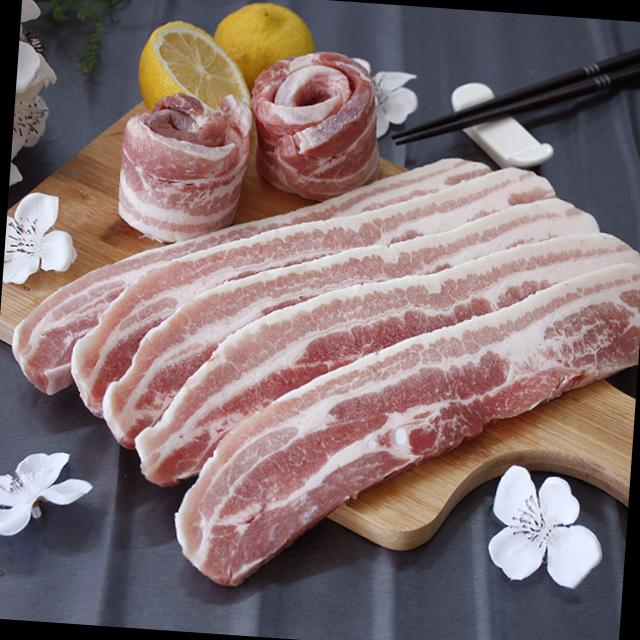pork: (0, 104, 631, 549)
